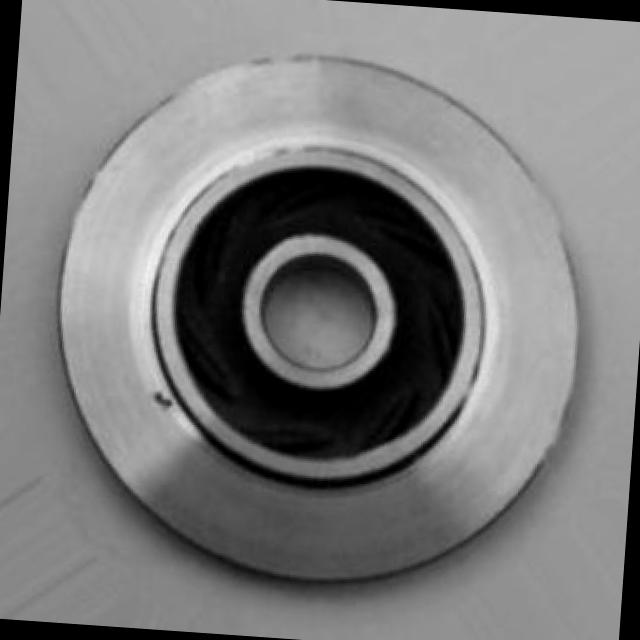Defect: (150, 388, 177, 412)
